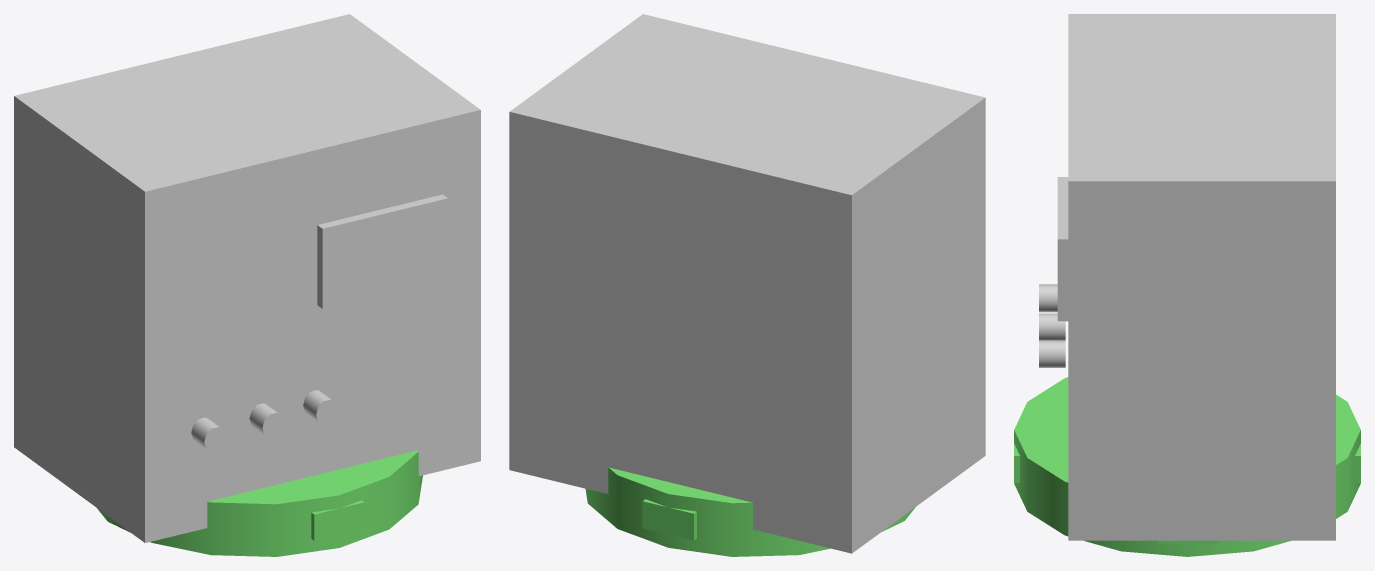
3 views of the same model, side by side, from view 1: azimuth 30°, elevation 25°; view 2: azimuth 150°, elevation 25°; view 3: azimuth 270°, elevation 25° (orthographic). The views are drawn at different scales.
Visible parts, largest first — view 1: analyzer_1, visualRotor, display_2, terminal_3, terminal_4, terminal_5; view 2: analyzer_1, visualRotor; view 3: analyzer_1, visualRotor, display_2, terminal_5, terminal_4, terminal_3.
Boxes of the visible parts, bbox=[...] form: analyzer_1: bbox=[14, 14, 480, 542]; visualRotor: bbox=[97, 450, 422, 556]; display_2: bbox=[317, 194, 447, 308]; terminal_3: bbox=[191, 417, 226, 452]; terminal_4: bbox=[249, 403, 284, 438]; terminal_5: bbox=[303, 390, 338, 424]; analyzer_1: bbox=[509, 14, 985, 553]; visualRotor: bbox=[585, 467, 915, 556]; analyzer_1: bbox=[1068, 14, 1335, 540]; visualRotor: bbox=[1014, 377, 1360, 556]; display_2: bbox=[1057, 177, 1068, 321]; terminal_5: bbox=[1039, 340, 1065, 367]; terminal_4: bbox=[1039, 313, 1065, 340]; terminal_3: bbox=[1039, 284, 1057, 312].
Bounding box in the file's own units: 0.8 × 0.86 × 0.7.
